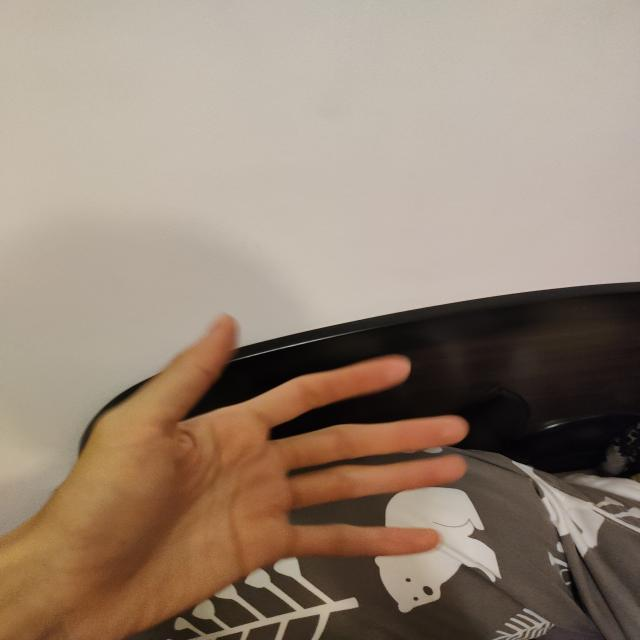Hand: (1, 310, 478, 640)
